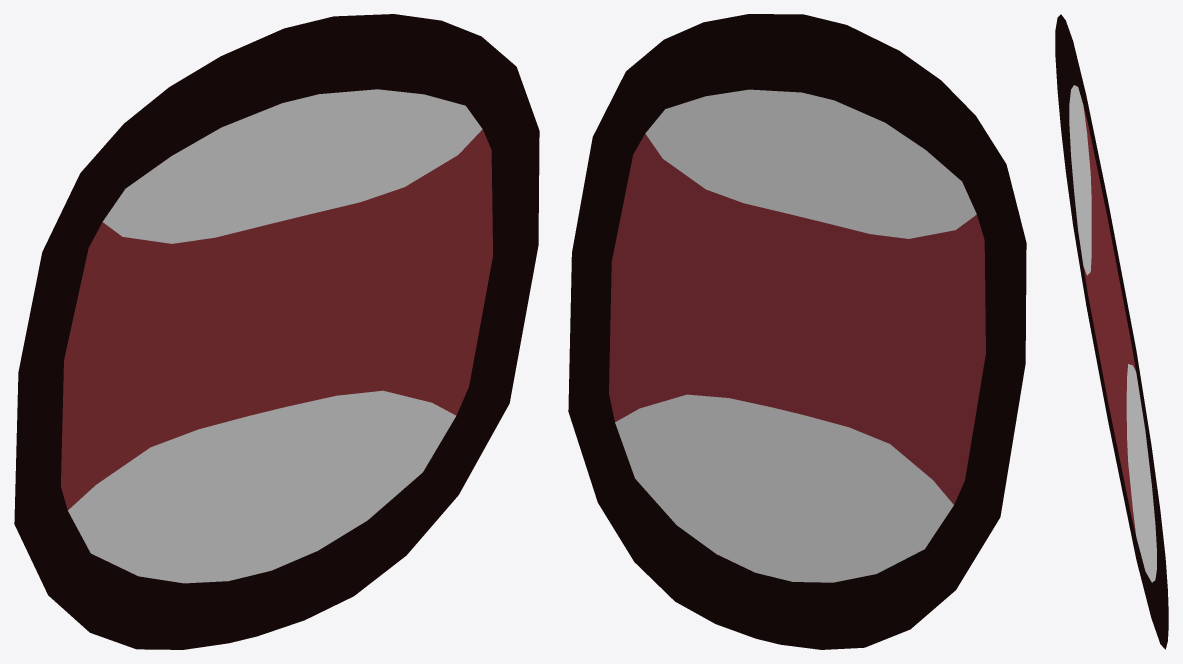
Rendered from flip_o.glb.
3 renders of one model, left to right at view 1: azimuth 30°, elevation 25°; view 2: azimuth 150°, elevation 25°; view 3: azimuth 270°, elevation 25°, orthographic. The views are drawn at different scales.
Parts seen in each view (by area): view 1: flip_o; view 2: flip_o; view 3: flip_o.
Part boxes in pixels (x1,y1,x2,y2): flip_o: (14,14,539,649); flip_o: (568,14,1026,649); flip_o: (1055,14,1168,649).
Size of the model in its own units: 0.0397 by 0.0485 by 0.00865.
